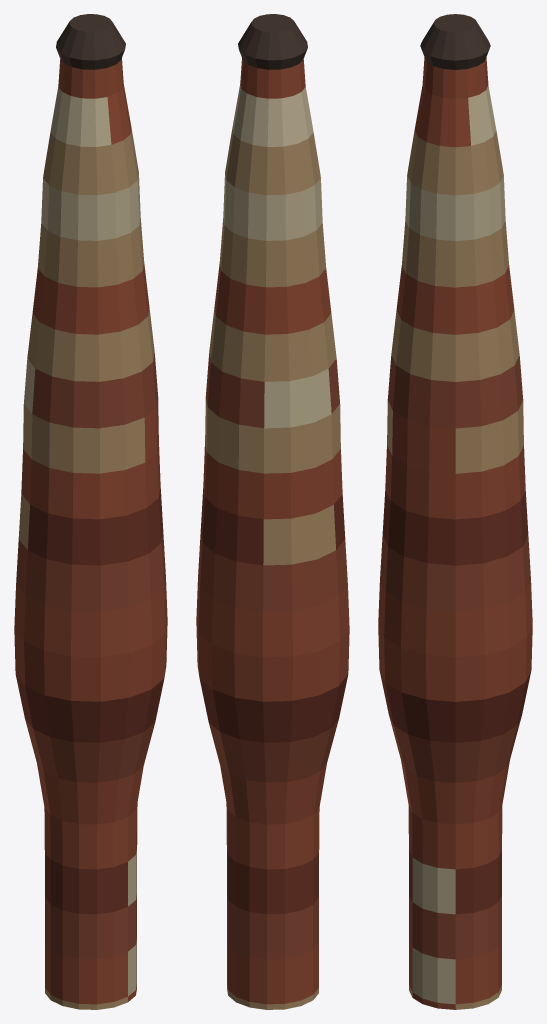
File: landmark_spire_mid.glb
3 renders of one model, left to right at view 1: azimuth 30°, elevation 25°; view 2: azimuth 150°, elevation 25°; view 3: azimuth 270°, elevation 25°, orthographic.
Parts seen in each view (by area): view 1: landmark_spire_mid; view 2: landmark_spire_mid; view 3: landmark_spire_mid.
Boxes of the visible parts, x1,y1,x2,y2 form: landmark_spire_mid: [14, 14, 167, 1009]; landmark_spire_mid: [196, 14, 349, 1009]; landmark_spire_mid: [378, 14, 532, 1009].
Bounding box in the file's own units: 49.83 × 344 × 49.83.
